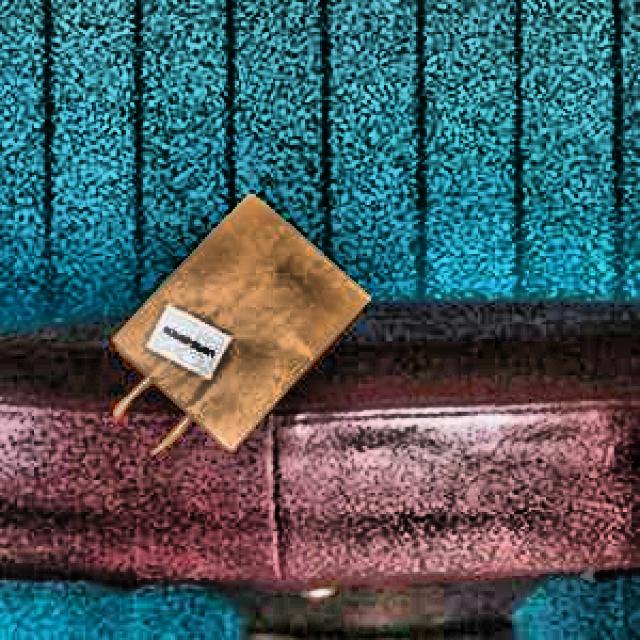Paper-bag: (98, 190, 375, 464)
